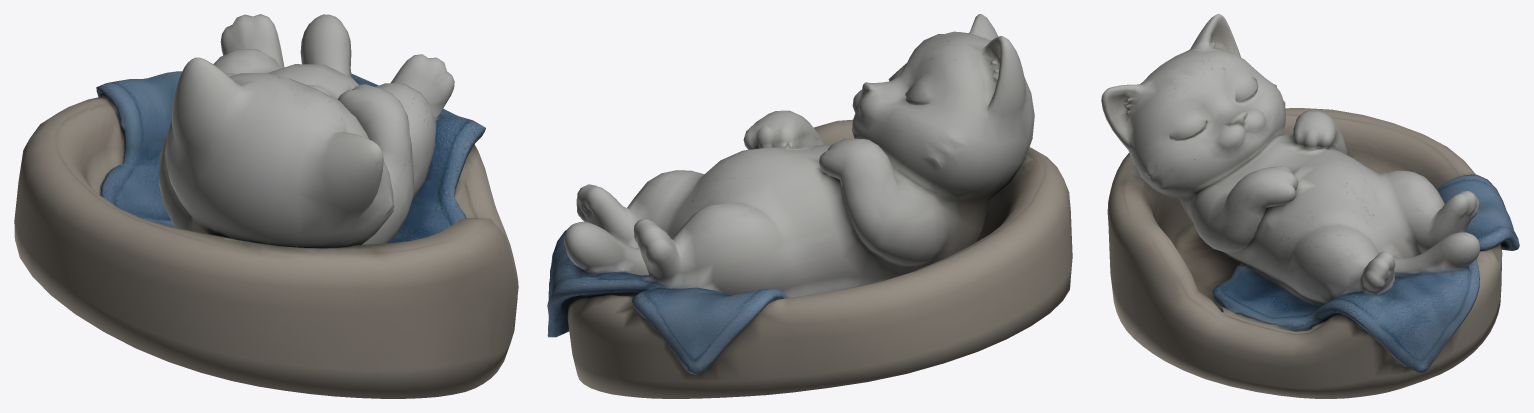
Rendered from figurine-blanket-sleep.glb.
3 views of the same model, side by side, from view 1: azimuth 30°, elevation 25°; view 2: azimuth 150°, elevation 25°; view 3: azimuth 270°, elevation 25° (orthographic). The views are drawn at different scales.
Parts seen in each view (by area): view 1: tripo_node_c782b9e5-79b6-44c1-ac45-85c96eb921ec; view 2: tripo_node_c782b9e5-79b6-44c1-ac45-85c96eb921ec; view 3: tripo_node_c782b9e5-79b6-44c1-ac45-85c96eb921ec.
Part boxes in pixels (box(x1,y1,x2,y2)): tripo_node_c782b9e5-79b6-44c1-ac45-85c96eb921ec: box(14, 14, 518, 398); tripo_node_c782b9e5-79b6-44c1-ac45-85c96eb921ec: box(547, 14, 1072, 398); tripo_node_c782b9e5-79b6-44c1-ac45-85c96eb921ec: box(1101, 14, 1519, 398).
Bounding box in the file's own units: 0.9315 × 0.6646 × 0.9703.
1 material, 1 textured.
